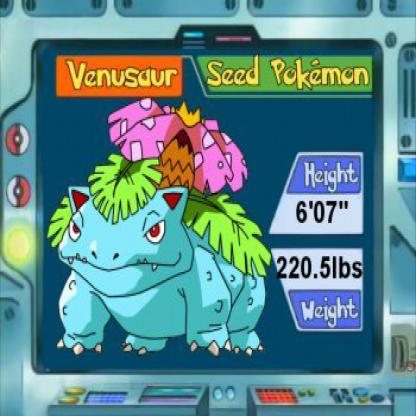Venusaur: (53, 108, 271, 363)
